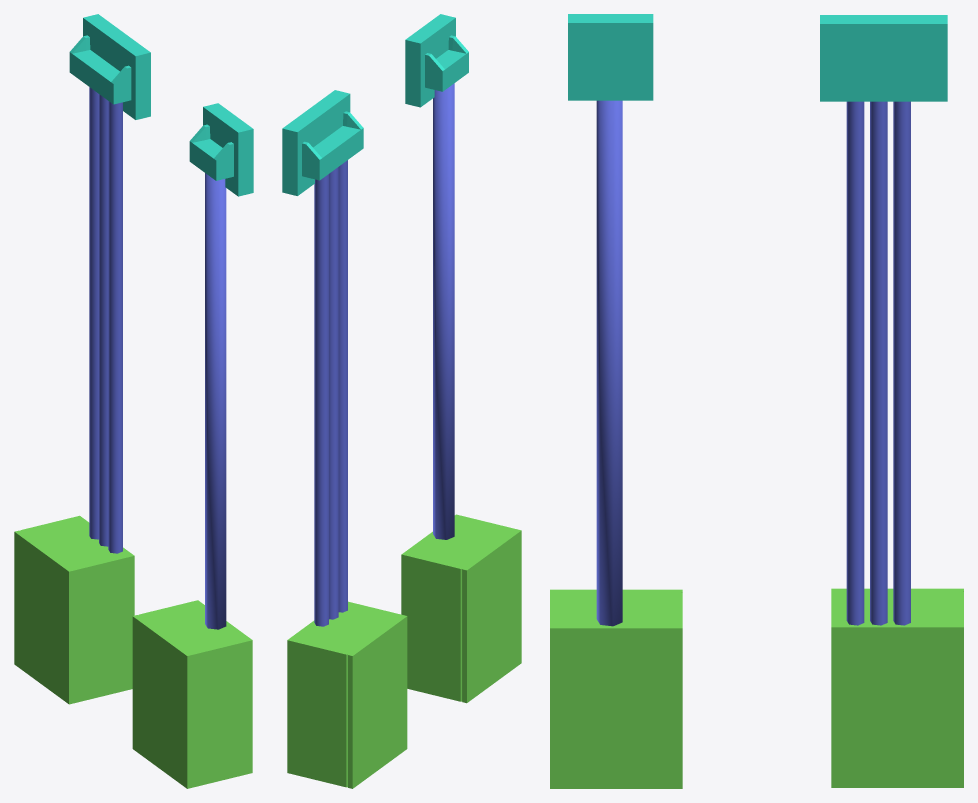
File: ele.fbx
The picture shows the model from 3 angles, left to right: view 1: azimuth 30°, elevation 25°; view 2: azimuth 150°, elevation 25°; view 3: azimuth 270°, elevation 25°; orthographic projection. The views are drawn at different scales.
Parts seen in each view (by area): view 1: Куб.041, Куб.033; view 2: Куб.041, Куб.033; view 3: Куб.041, Куб.033.
Part boxes in pixels (bbox=[...]): Куб.041: bbox=[14, 14, 150, 704]; Куб.033: bbox=[132, 103, 253, 788]; Куб.041: bbox=[282, 90, 407, 788]; Куб.033: bbox=[401, 14, 521, 703]; Куб.041: bbox=[820, 15, 963, 787]; Куб.033: bbox=[550, 14, 682, 788].
Bounding box in the file's own units: 50.72 × 400 × 195.
